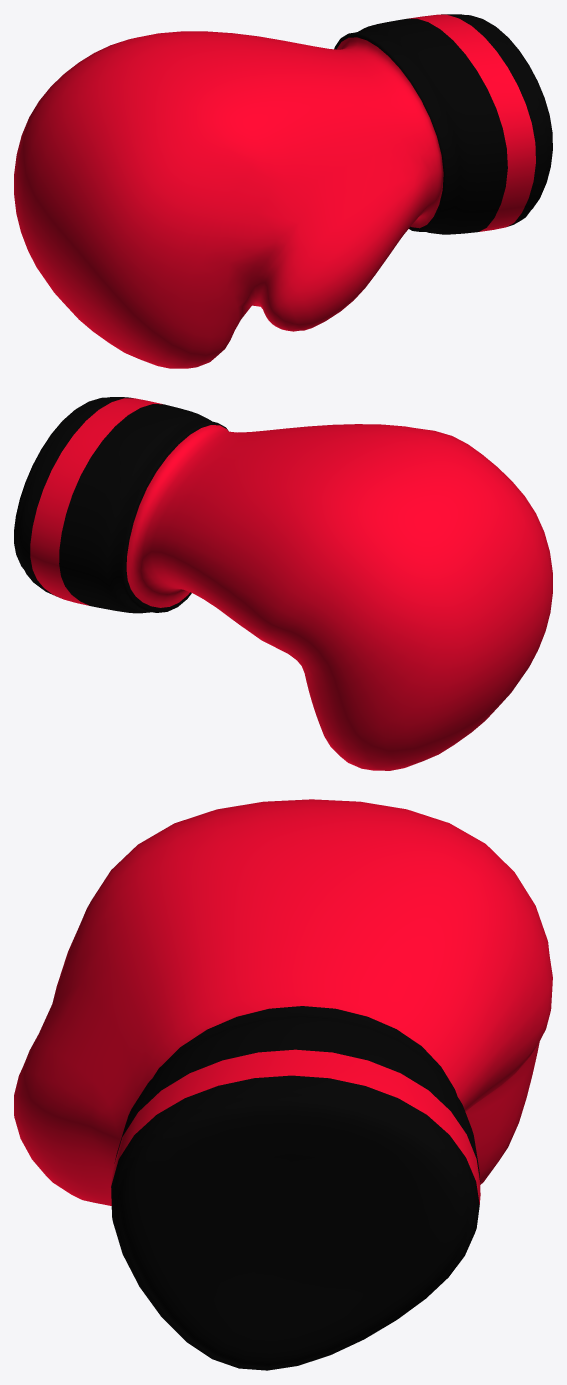
File: box_eldiveni_smoot.fbx
3 renders of one model, top to bottom at view 1: azimuth 30°, elevation 25°; view 2: azimuth 150°, elevation 25°; view 3: azimuth 270°, elevation 25°, orthographic. The views are drawn at different scales.
Visible parts, largest first — view 1: yumruk2; view 2: yumruk2; view 3: yumruk2.
Part boxes in pixels (bbox=[...]): yumruk2: bbox=[14, 14, 552, 368]; yumruk2: bbox=[14, 397, 552, 770]; yumruk2: bbox=[14, 799, 552, 1370].
Bounding box in the file's own units: 586 × 351 × 408.
